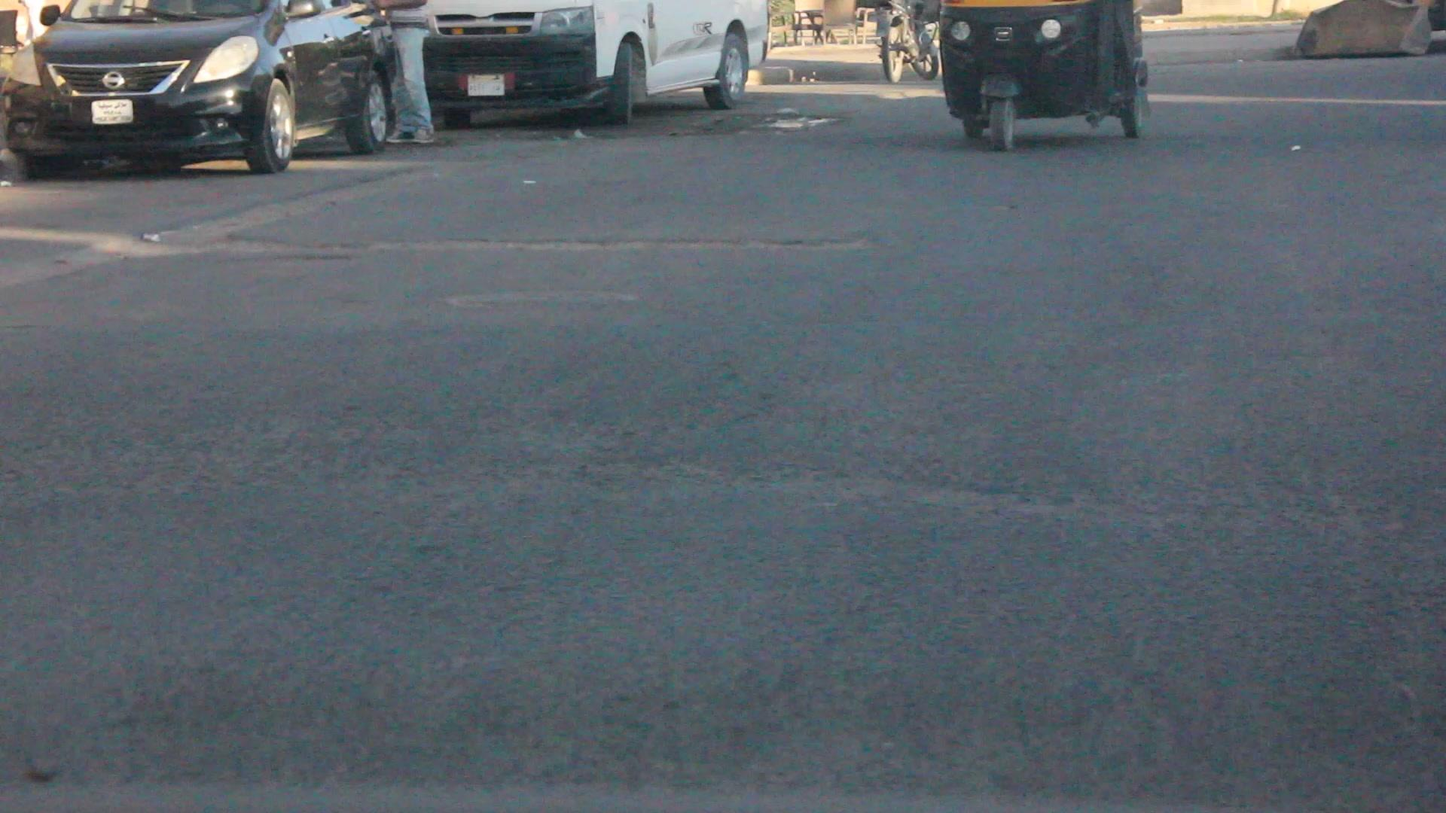Bump: (23, 470, 1446, 790)
